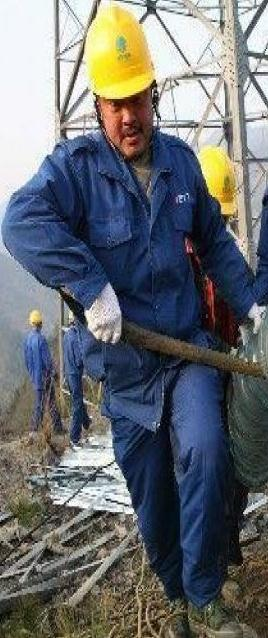boots: (187, 598, 245, 638), (165, 596, 189, 638)
gloves: (83, 281, 122, 345), (1, 1, 1, 1)
hard-hat: (28, 309, 42, 325)
ppe-suit: (59, 336, 87, 437)
